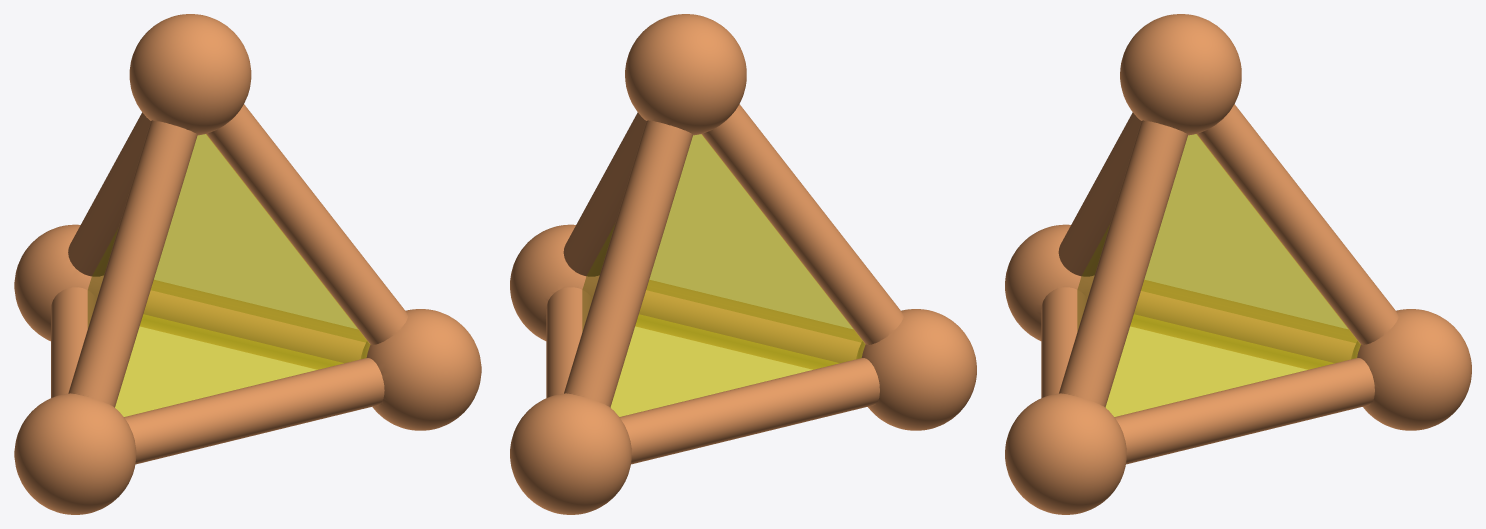
The picture shows the model from 3 angles, left to right: view 1: azimuth 30°, elevation 25°; view 2: azimuth 150°, elevation 25°; view 3: azimuth 270°, elevation 25°; orthographic projection.
Visible parts, largest first — view 1: G012; view 2: G012; view 3: G012.
Boxes of the visible parts, x1,y1,x2,y2 form: G012: (14,14,481,514); G012: (510,14,976,514); G012: (1005,14,1471,514).
Size of the model in its own units: 133 by 114 by 119.
2 materials, 2 textured.
